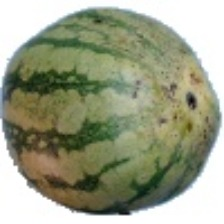watermelon: (16, 44, 202, 209)
